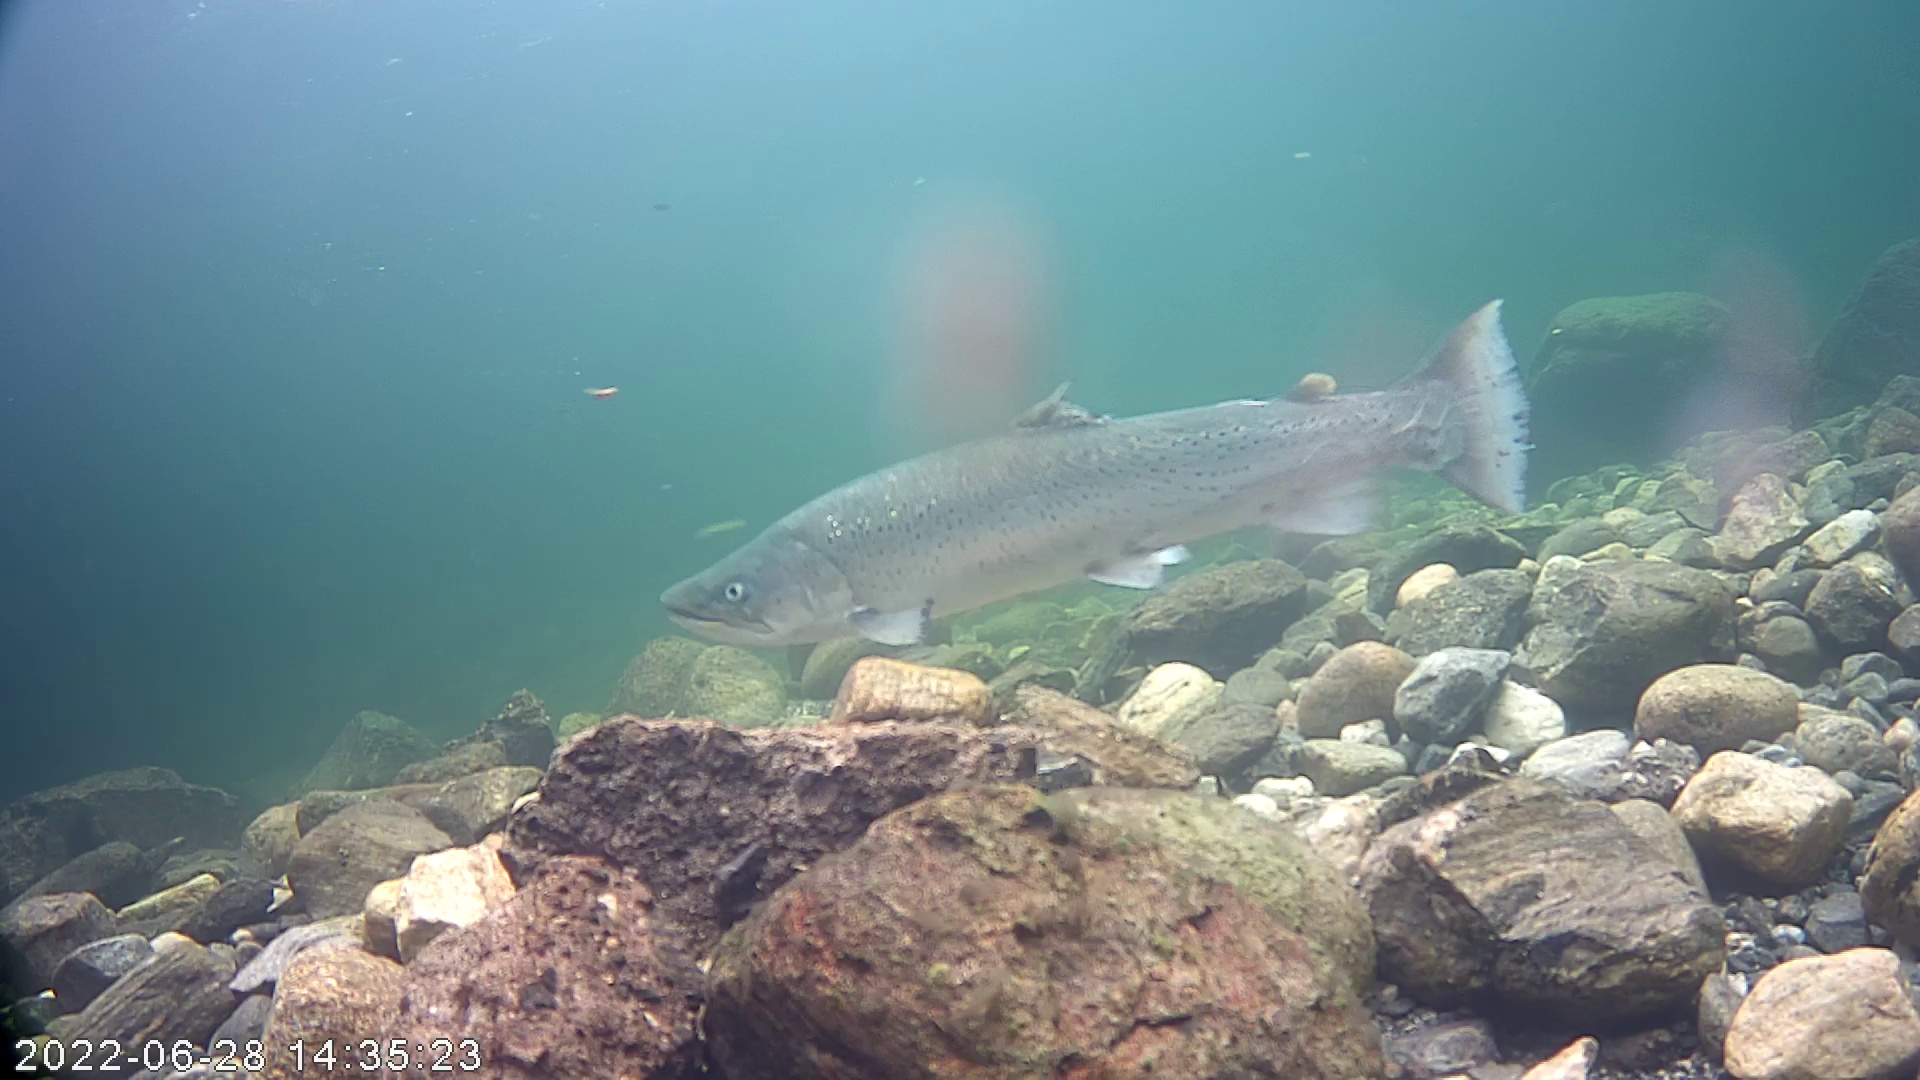salmon: (657, 261, 1571, 665)
